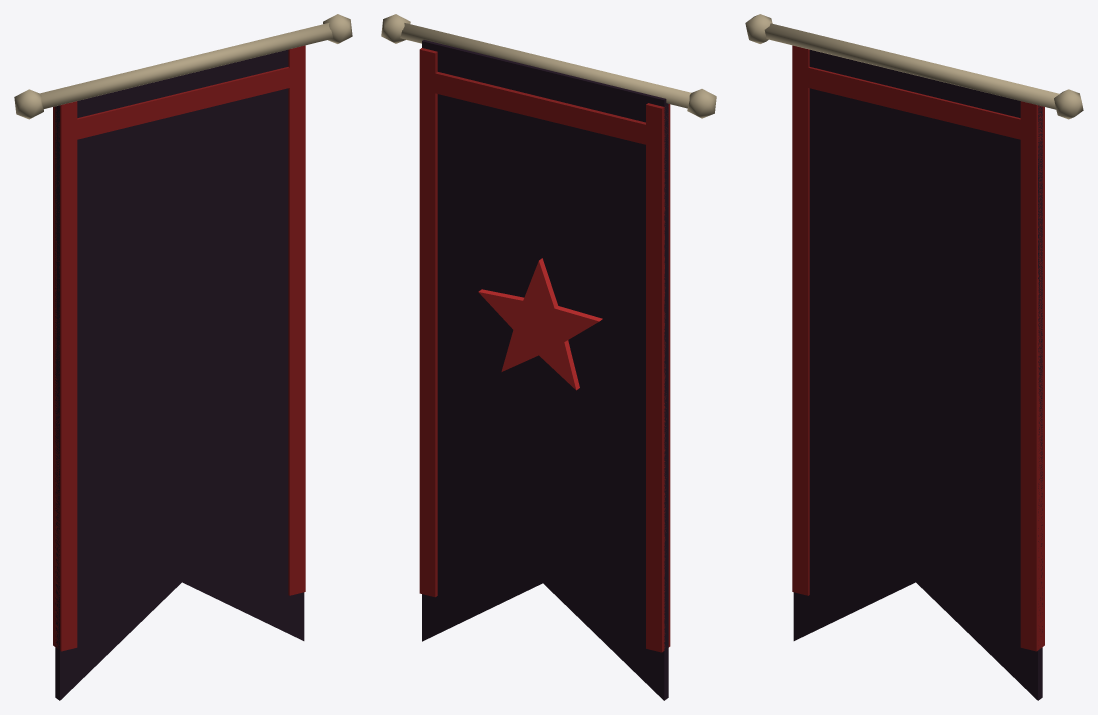
Rendered from diabolic_sigil_v0.glb.
The picture shows the model from 3 angles, left to right: view 1: azimuth 30°, elevation 25°; view 2: azimuth 150°, elevation 25°; view 3: azimuth 330°, elevation 25°; orthographic projection.
Visible parts, largest first — view 1: diabolic_sigil_v0; view 2: diabolic_sigil_v0; view 3: diabolic_sigil_v0.
Part boxes in pixels (x1,y1,x2,y2): diabolic_sigil_v0: [14, 14, 352, 700]; diabolic_sigil_v0: [381, 14, 716, 700]; diabolic_sigil_v0: [745, 14, 1083, 700].
Size of the model in its own units: 1.04 by 1.84 by 0.0933.
